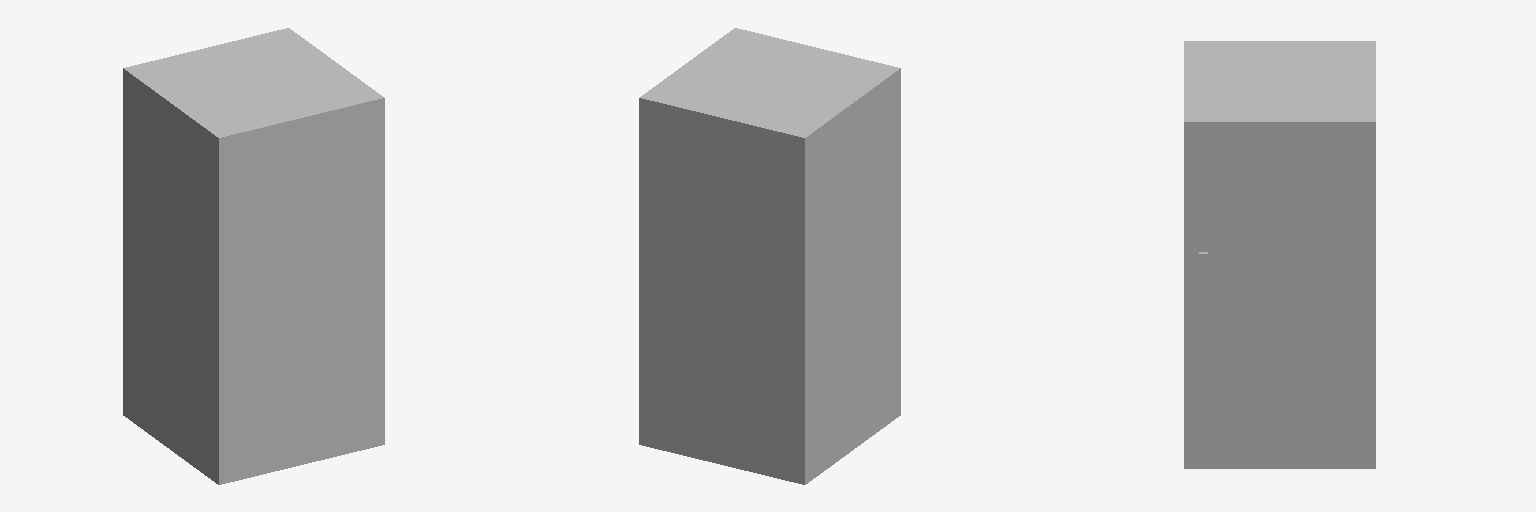
File: fridge_collider.obj
3 views of the same model, side by side, from view 1: azimuth 30°, elevation 25°; view 2: azimuth 150°, elevation 25°; view 3: azimuth 270°, elevation 25° (orthographic).
Parts seen in each view (by area): view 1: Fridge_Cube, Collider_Cube.004, Cube.003_Cube.001, Cube.000_Cube.001, Cube.005_Cube.001, Cube.001; view 2: Collider_Cube.004, Cube.003_Cube.001, Cube.001, Cube.000_Cube.001, Cube.002_Cube.001, Cube.005_Cube.001; view 3: Collider_Cube.004, Cube.005_Cube.001, Cube.000_Cube.001, Fridge_Door_Cube.003.
Part boxes in pixels (bbox=[...]): Fridge_Cube: bbox=[220, 101, 373, 483]; Collider_Cube.004: bbox=[123, 28, 384, 483]; Cube.003_Cube.001: bbox=[123, 66, 219, 484]; Cube.000_Cube.001: bbox=[128, 30, 371, 143]; Cube.005_Cube.001: bbox=[282, 28, 384, 445]; Cube.001: bbox=[123, 30, 278, 417]; Collider_Cube.004: bbox=[639, 28, 900, 484]; Cube.003_Cube.001: bbox=[797, 66, 900, 484]; Cube.001: bbox=[651, 97, 809, 483]; Cube.000_Cube.001: bbox=[651, 46, 900, 145]; Cube.002_Cube.001: bbox=[655, 408, 900, 483]; Cube.005_Cube.001: bbox=[639, 30, 731, 446]; Collider_Cube.004: bbox=[1184, 41, 1375, 468]; Cube.005_Cube.001: bbox=[1184, 118, 1375, 468]; Cube.000_Cube.001: bbox=[1184, 41, 1375, 116]; Fridge_Door_Cube.003: bbox=[1199, 252, 1207, 339].
Bounding box in the file's own units: 2.05 × 4 × 2.